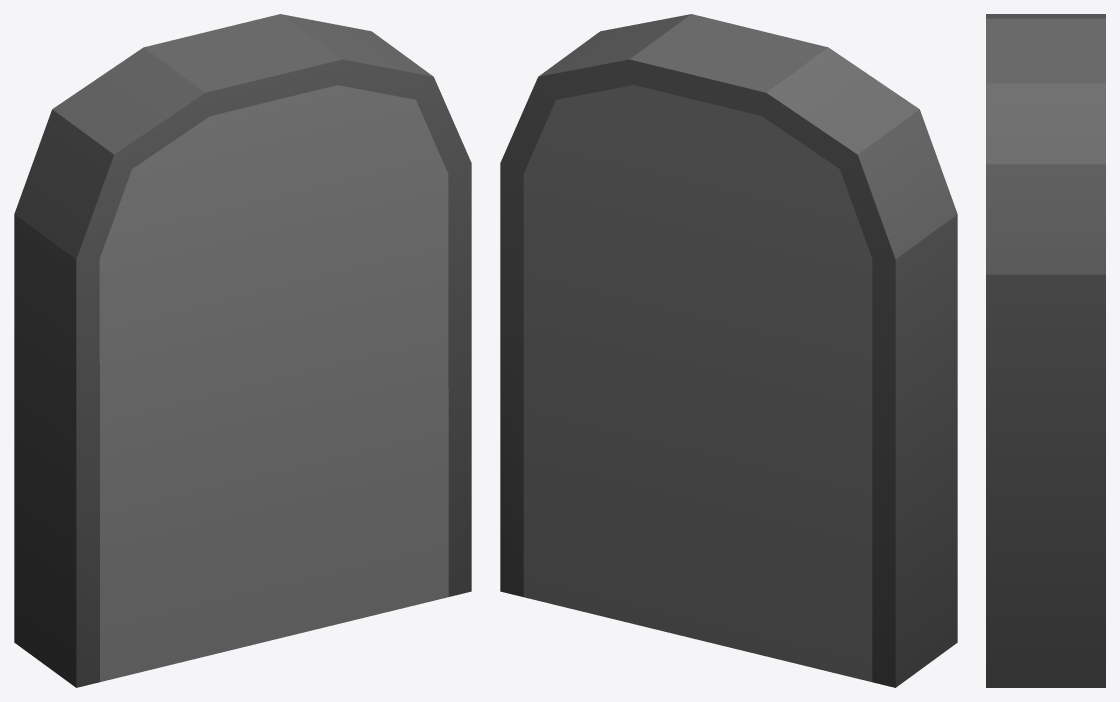
Rendered from tombstone.fbx.
3 renders of one model, left to right at view 1: azimuth 30°, elevation 25°; view 2: azimuth 150°, elevation 25°; view 3: azimuth 270°, elevation 25°, orthographic. The views are drawn at different scales.
Visible parts, largest first — view 1: tombstone; view 2: tombstone; view 3: tombstone.
Part boxes in pixels (x1=…): tombstone: x1=14, y1=14, x2=471, y2=687; tombstone: x1=500, y1=14, x2=957, y2=687; tombstone: x1=986, y1=14, x2=1105, y2=687.
Bounding box in the file's own units: 78.23 × 107 × 21.28.
